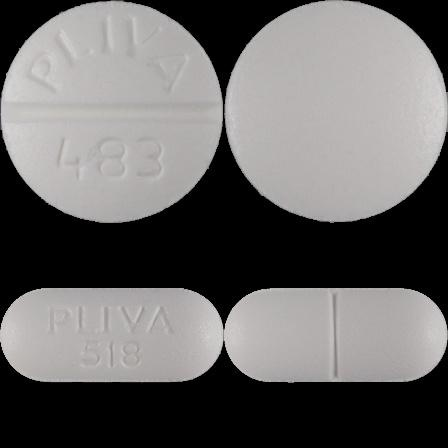50111-483: (0, 0, 224, 224)
